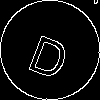D: (25, 25, 76, 81)
